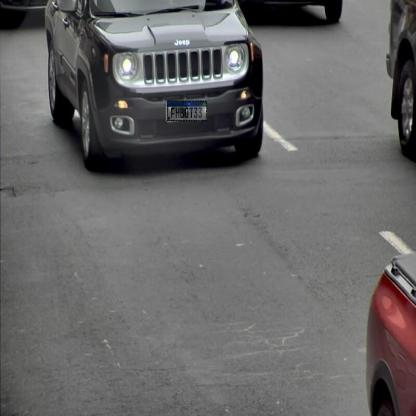PlacaM: (167, 100, 207, 122)
